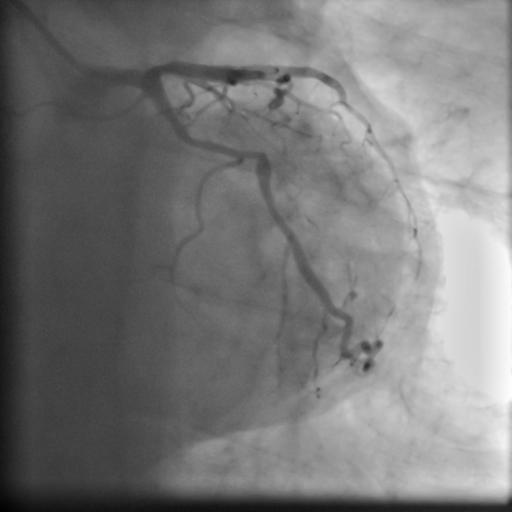Stenosis: (237, 146, 268, 163)
